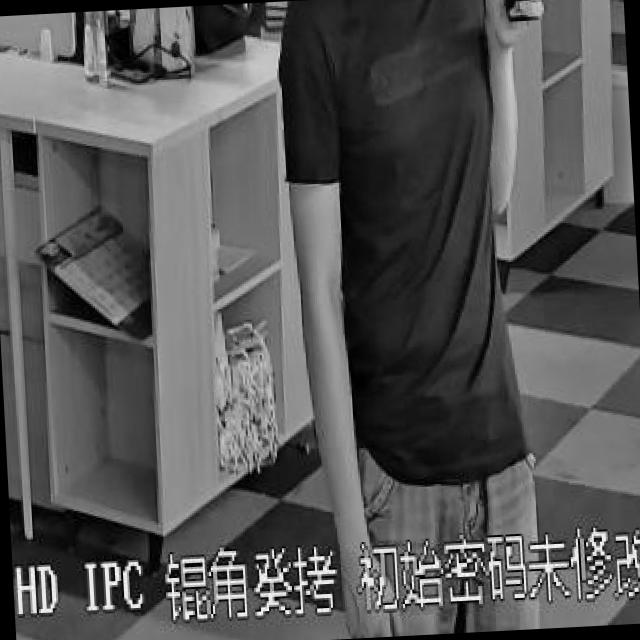Guns: (483, 0, 618, 21)
